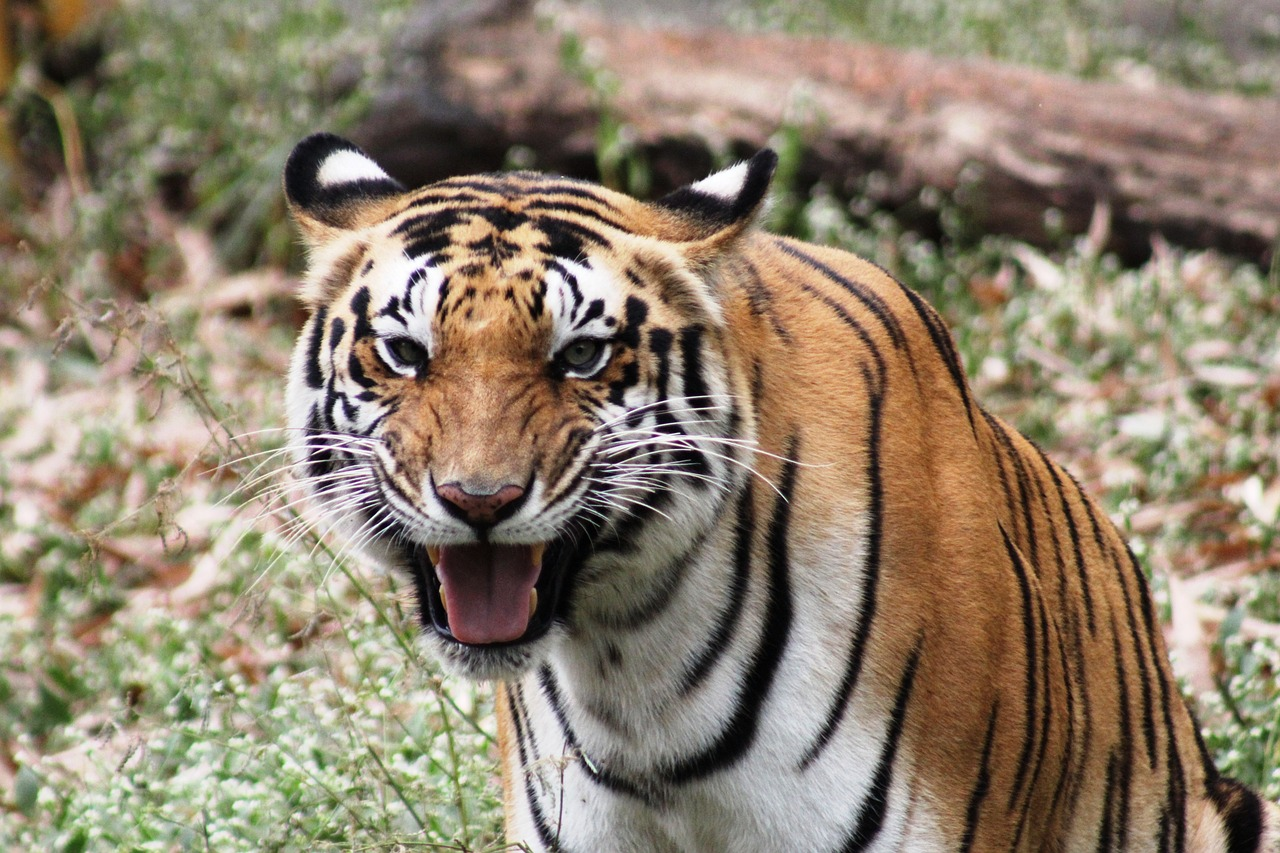tiger: (271, 92, 803, 666)
